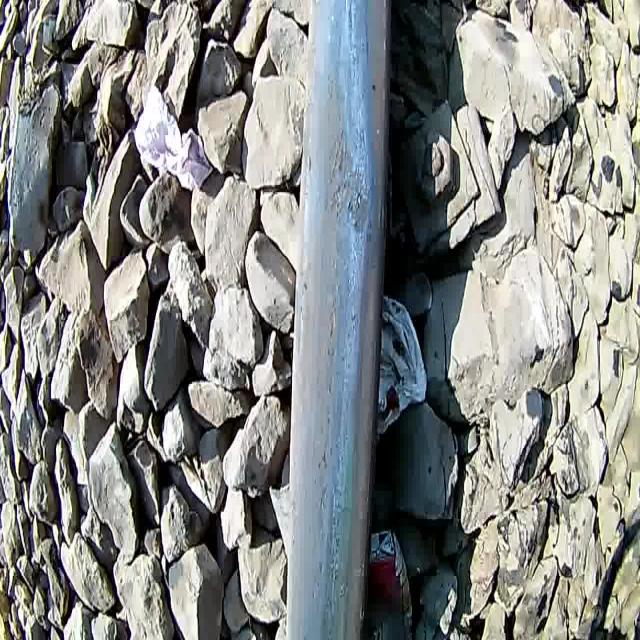Squats: (343, 185, 374, 244)
